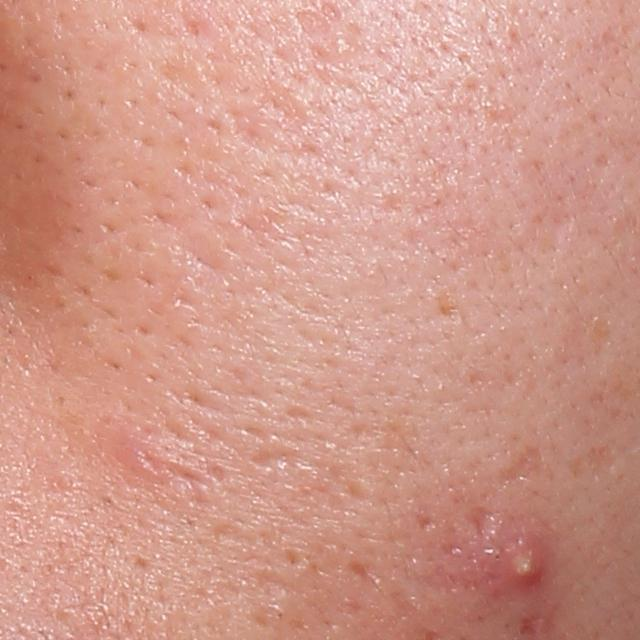atrophic_scar: (219, 103, 280, 152), (498, 442, 552, 489), (566, 445, 620, 480), (460, 503, 503, 539), (246, 445, 300, 473), (346, 559, 381, 592), (516, 614, 544, 637)
pustule: (491, 527, 558, 586)
